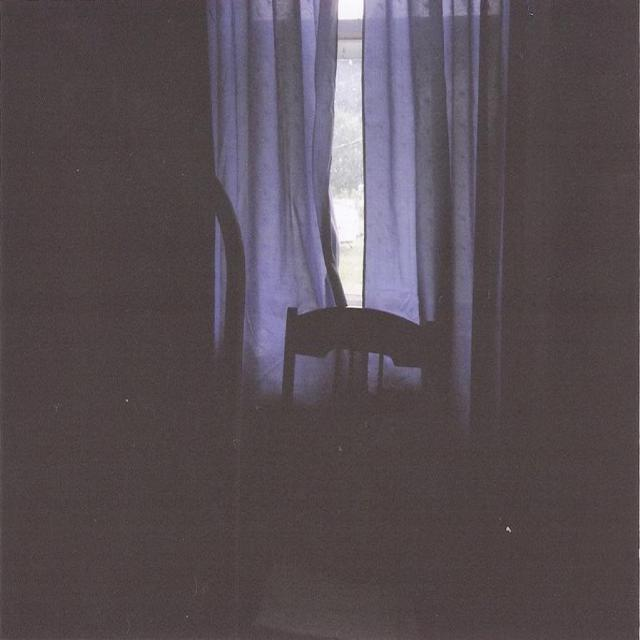chair: (75, 148, 262, 617), (275, 276, 497, 621)
